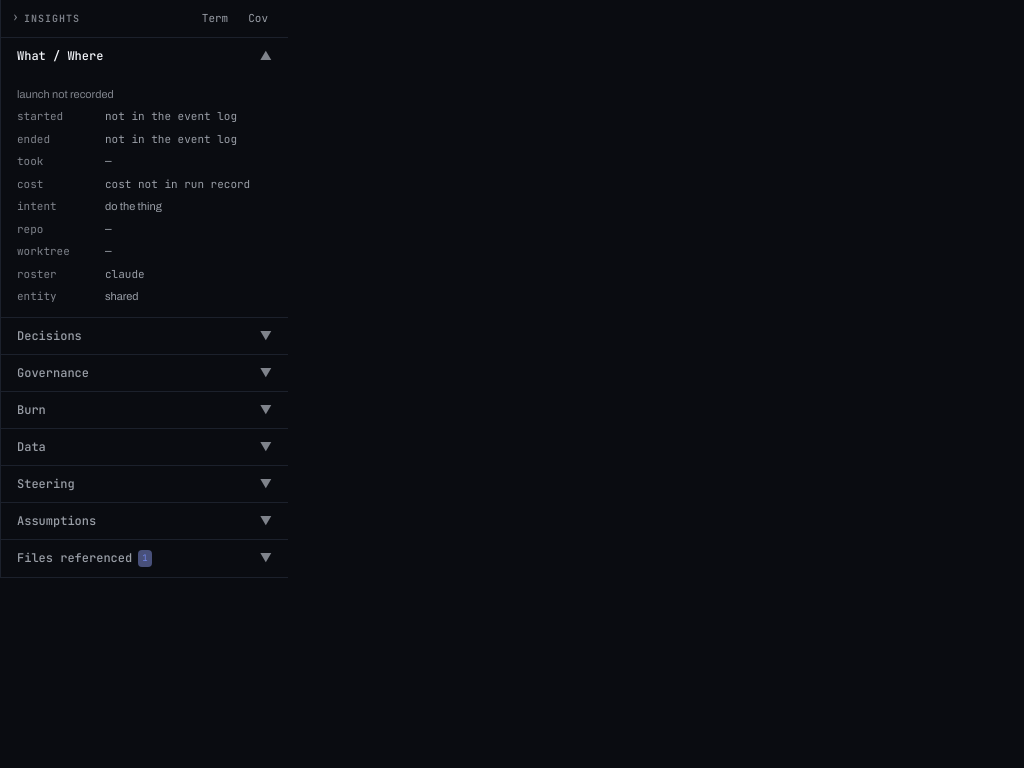
Test: RightPanel Files tab — slice I inline viewer + preserved openPath/copy › Escape closes the viewer and focus returns to the row
The width and height of the screenshot is (1024, 768).
Click the button "Files referenced 1 ▼" at {"x": 144, "y": 558}, box top-left (1, 540), bottom-right (288, 577)
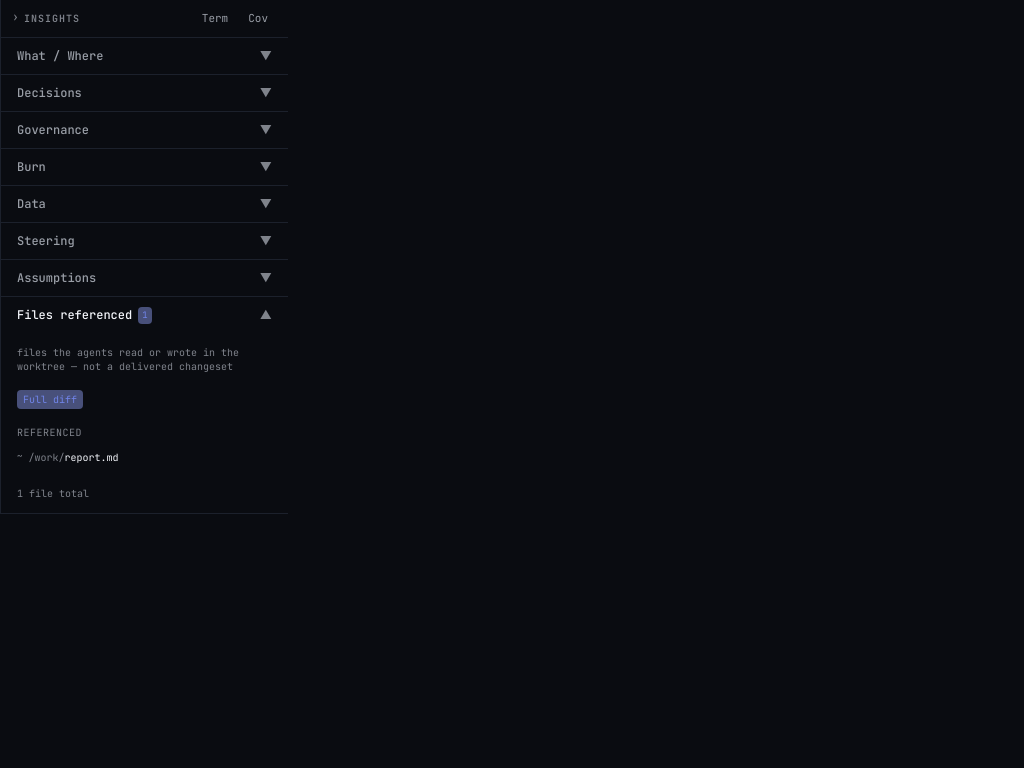
Click the button "/work/report.md" at {"x": 138, "y": 458}, box top-left (28, 448), bottom-right (248, 468)
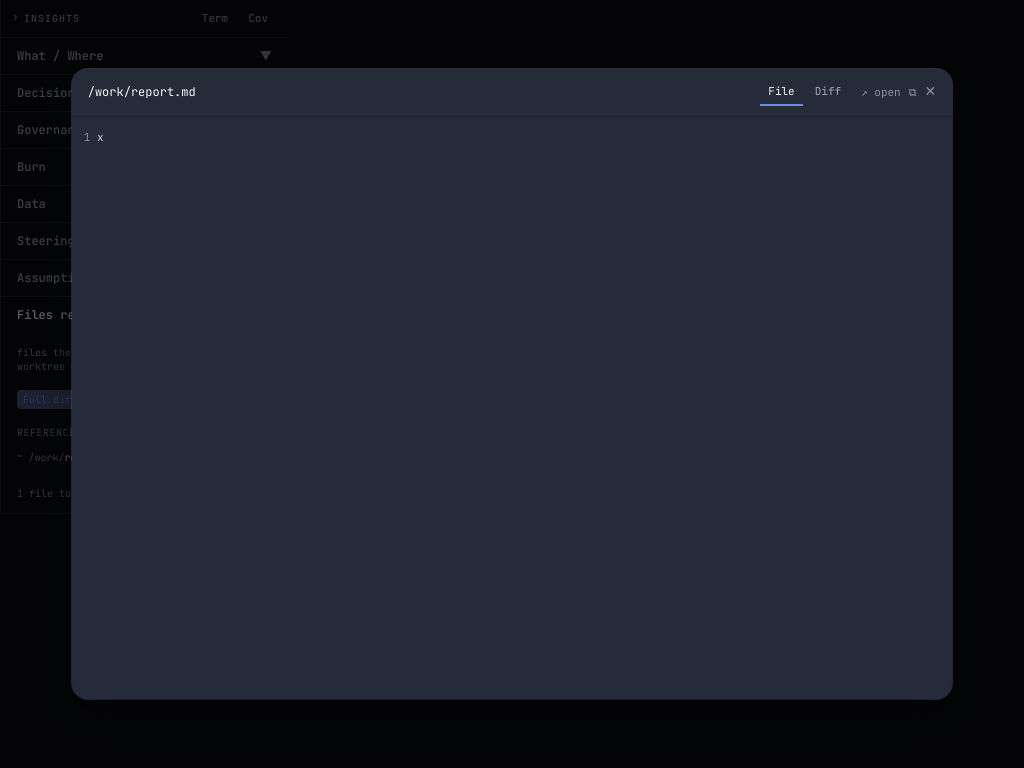
Now the dialog with test id "file-viewer" is shown
Press Escape
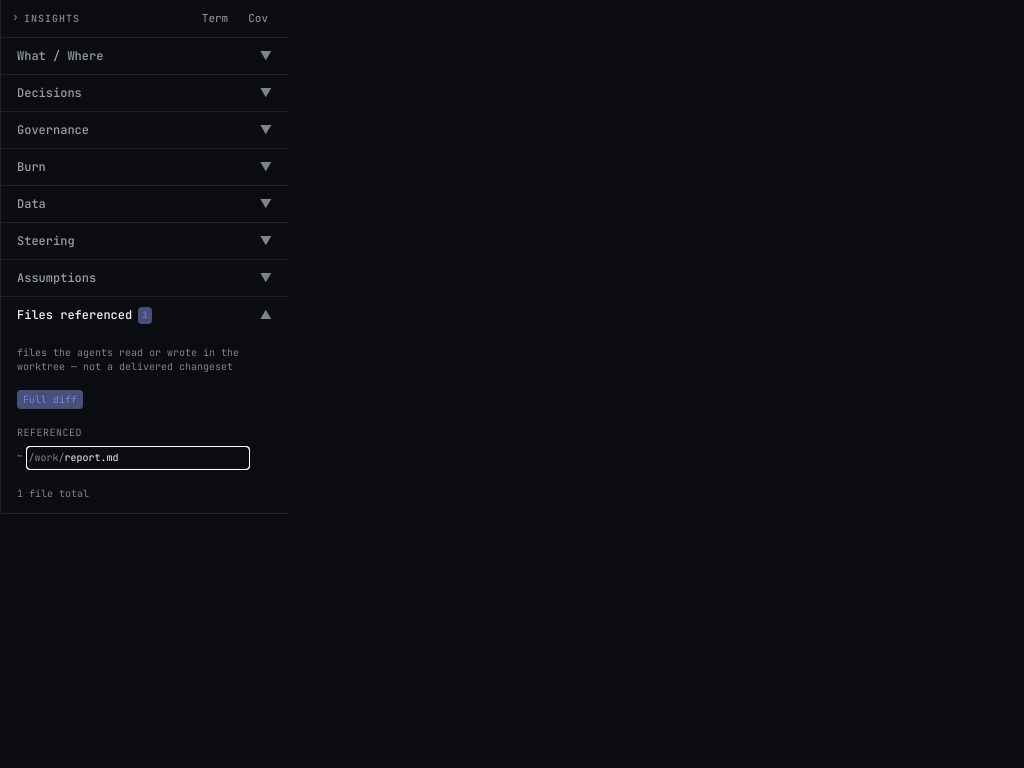
Now the dialog with test id "file-viewer" is gone
